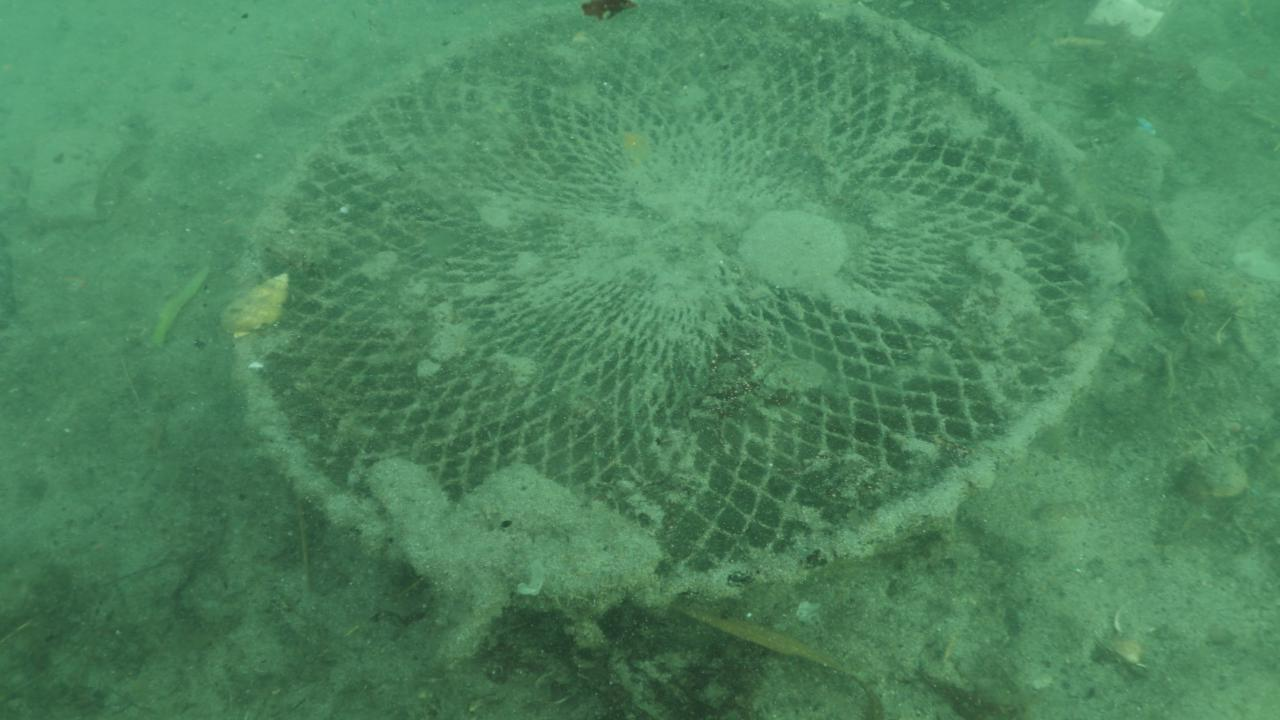circular fish trap: (225, 0, 1125, 620)
